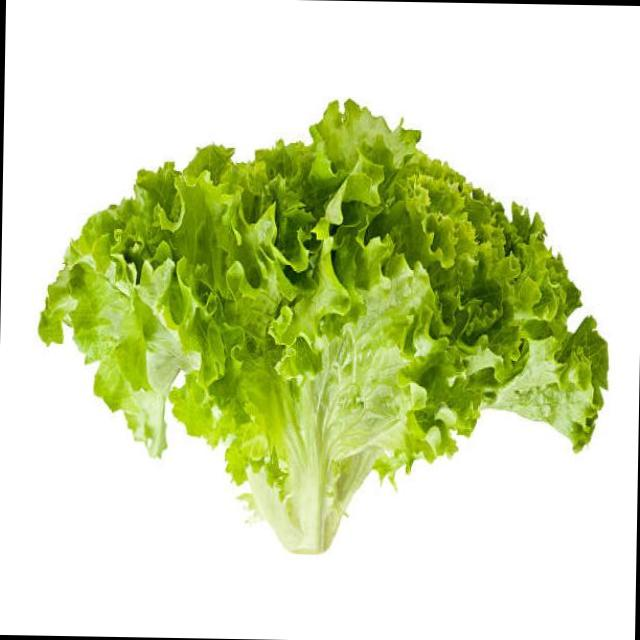Lettuce-Ready-to-Harvest: (36, 100, 610, 557)
